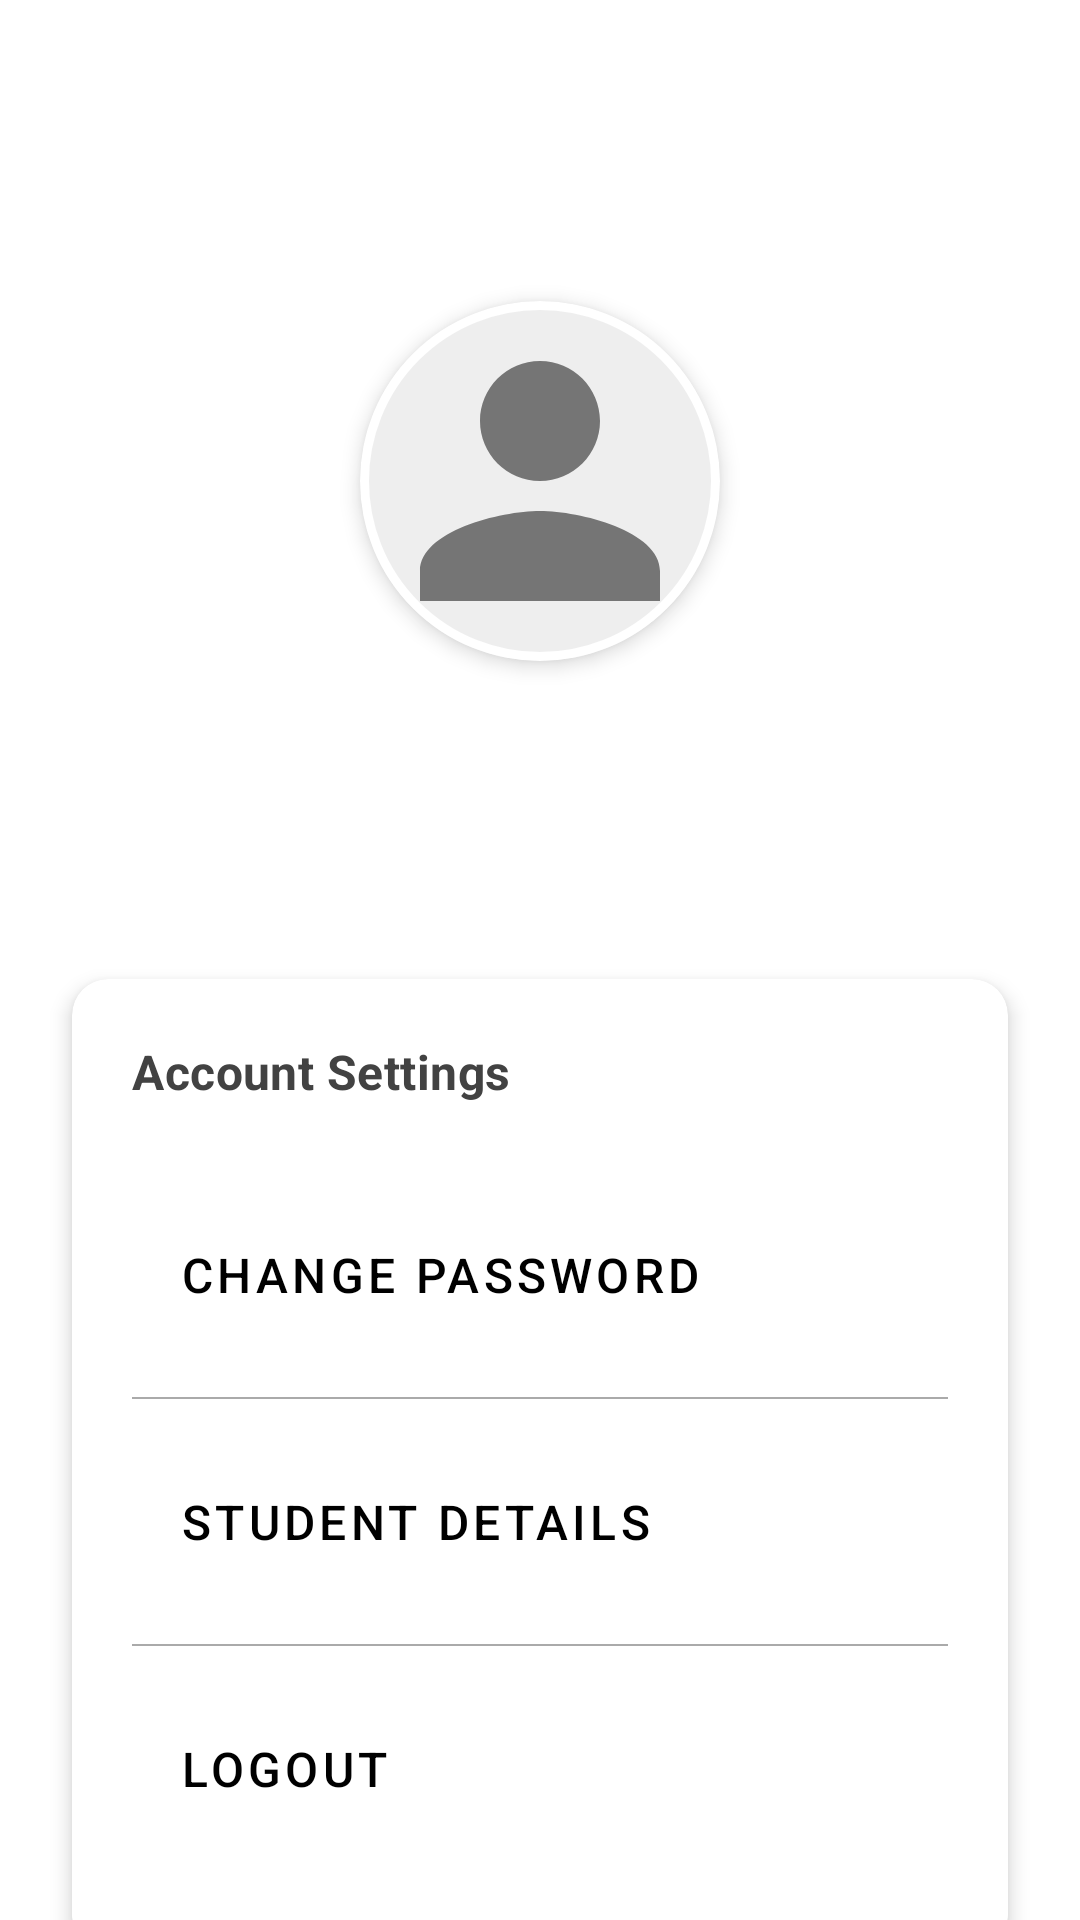

Point at icon controls on the screen. Image size 1080 × 1920, points as (x=x, y=y).
person: (x=540, y=481)
